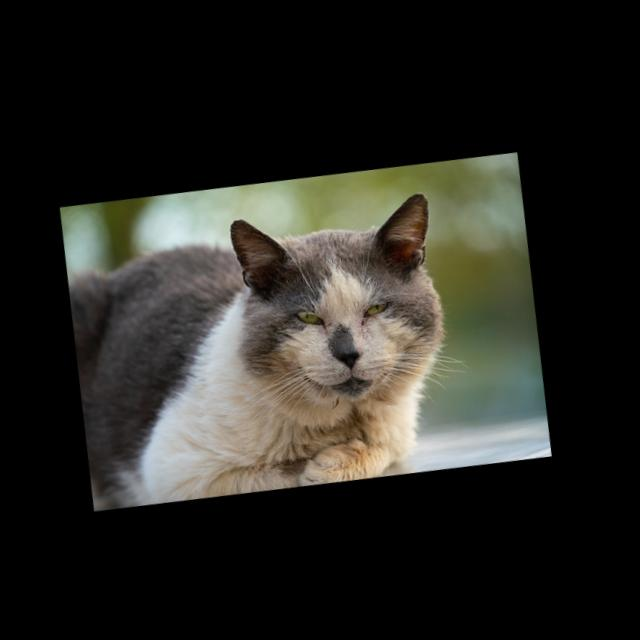animals: (56, 177, 473, 521)
